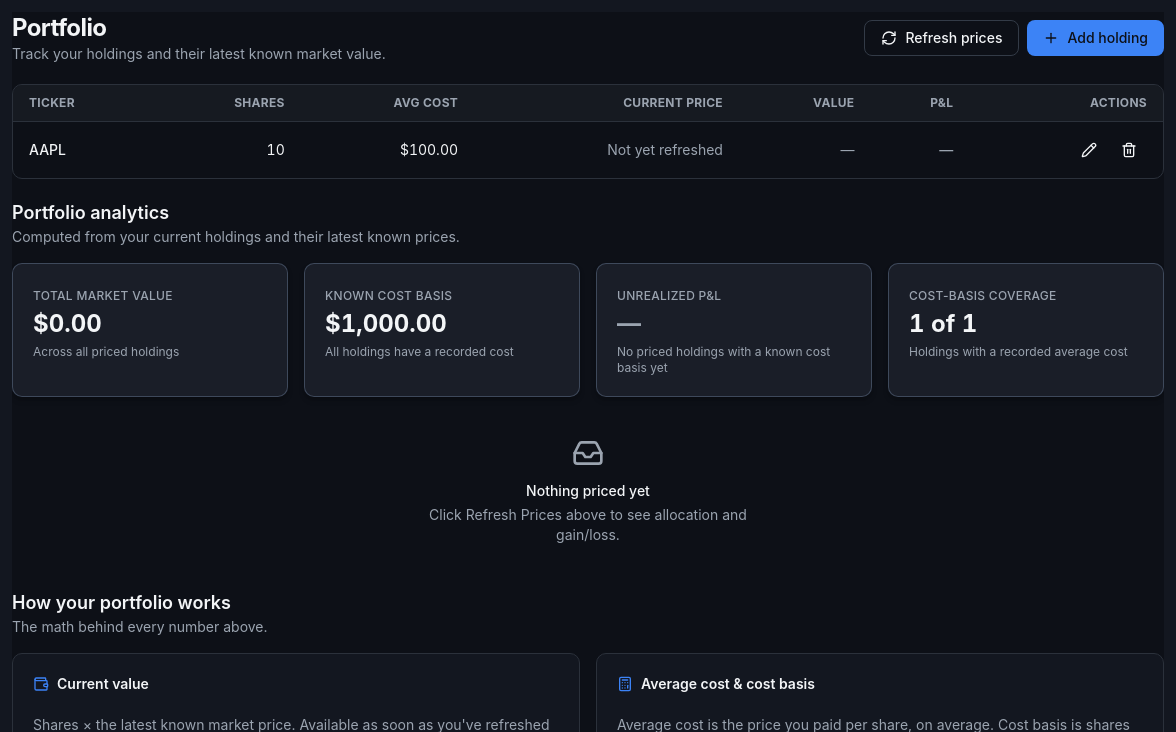
it: PortfolioPage › shows loading state and transient feedback on a partial refresh failure
The width and height of the screenshot is (1176, 732).
Click the button "Refresh prices".
click(942, 38)  # box [864,20,1019,56]
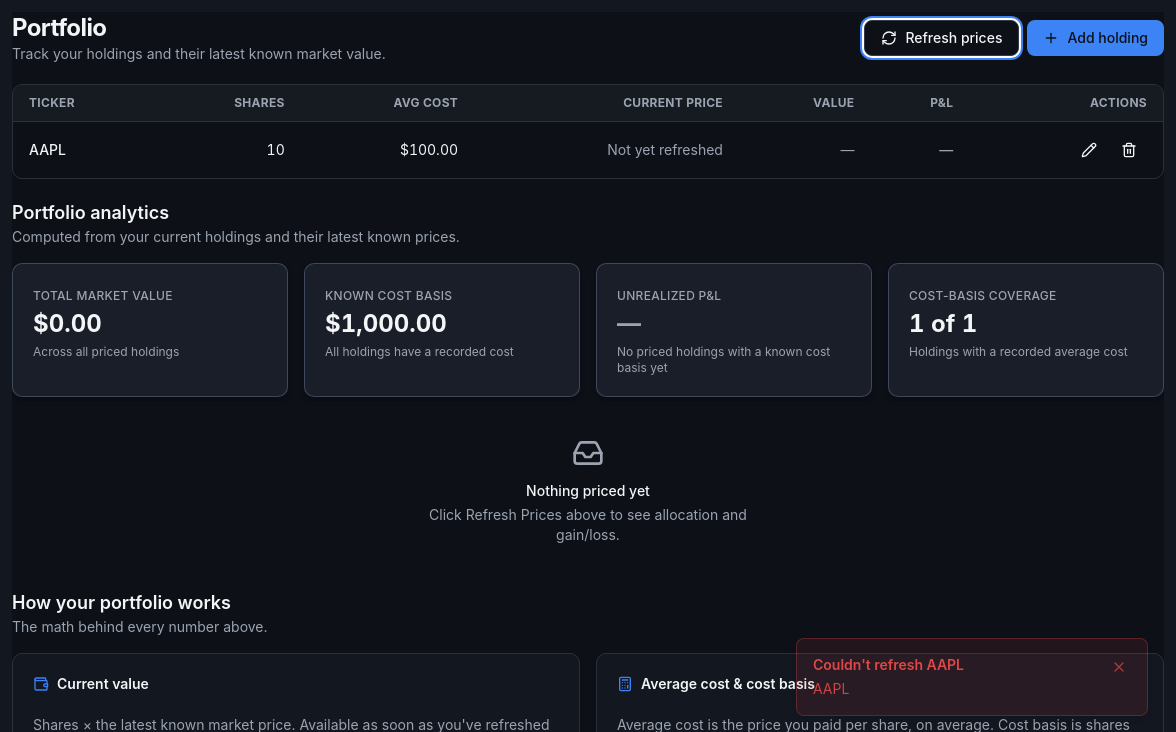
Result: the text "Couldn't refresh AAPL" is shown at [813,655,964,675]
